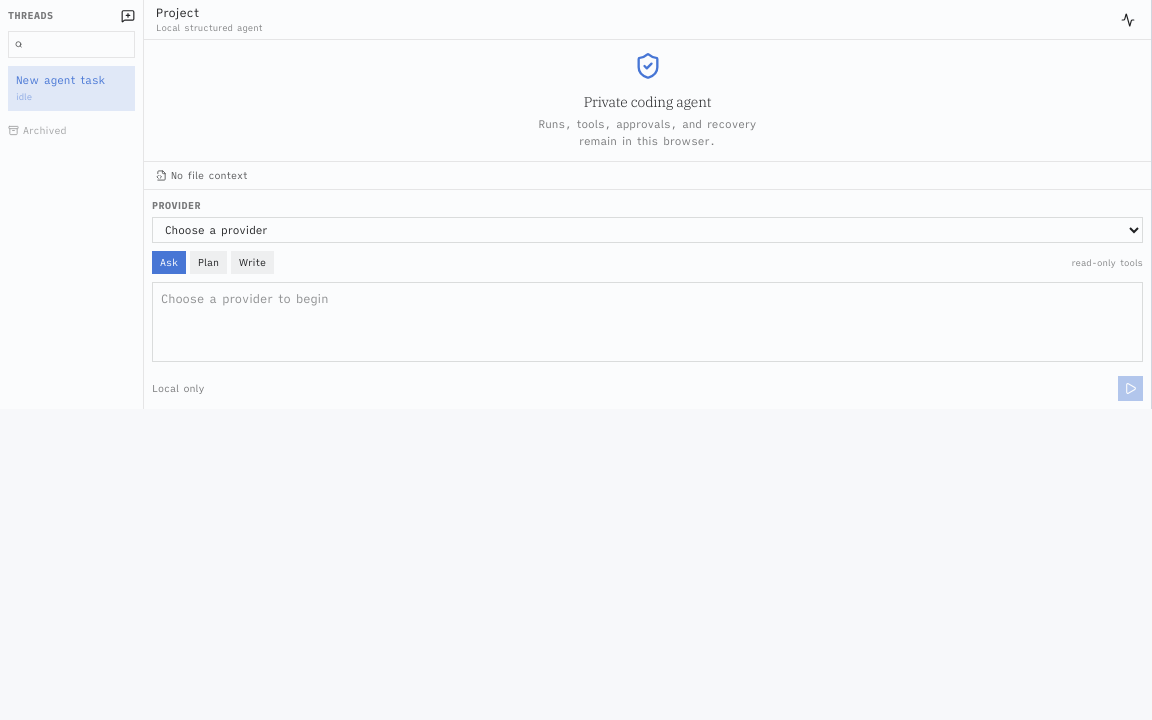
AgentWorkspace › asks for a session credential before a BYOK provider can run
Select "OpenRouter" in the dropdown named "Model provider": point(648, 230) x1=152 y1=217 x2=1143 y2=243
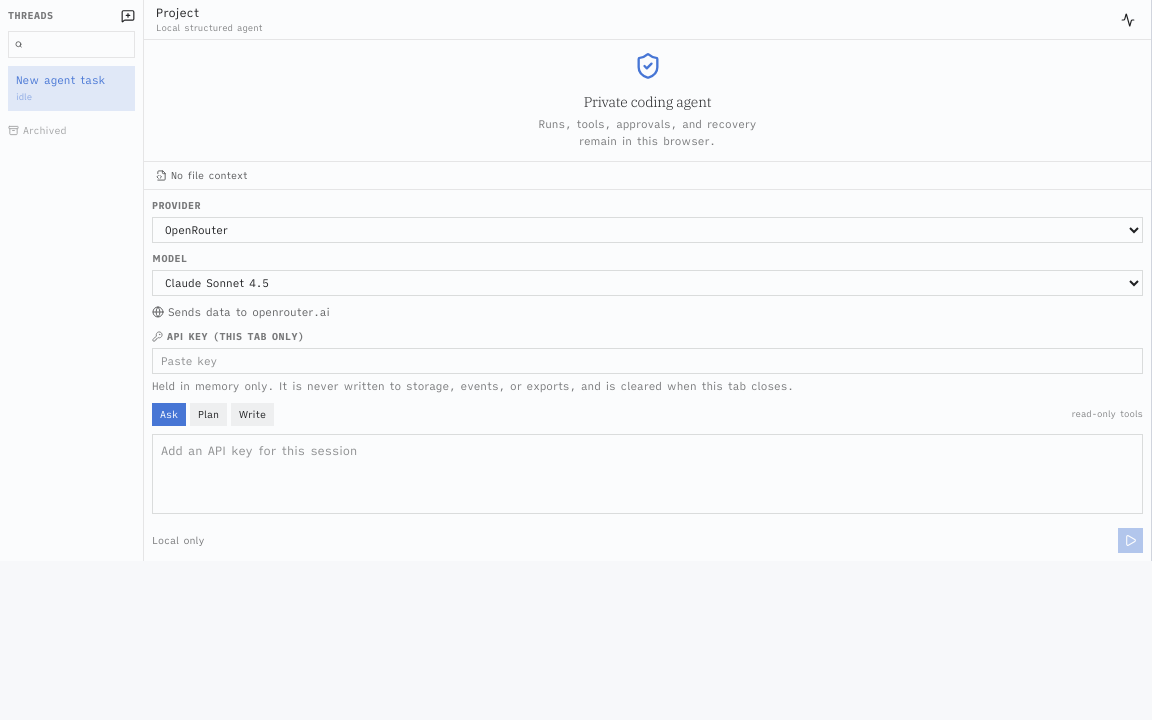
Expected: the text box with placeholder "Add an API key for this session" is disabled, x1=152 y1=434 x2=1143 y2=514
Now the text "Sends data to openrouter.ai" is shown, box x1=168 y1=304 x2=330 y2=320
In the password field labelled "API key": point(648, 361) x1=152 y1=348 x2=1143 y2=374, type "sk-test-value"
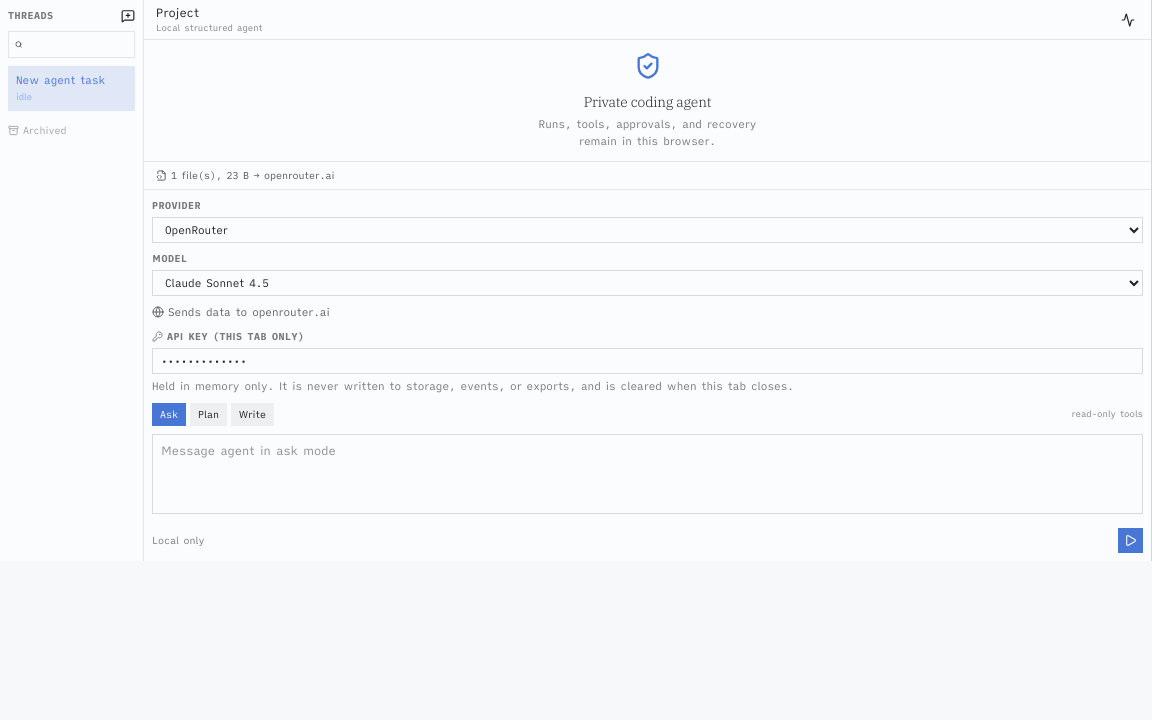
Now the button titled "Run agent" is enabled, box x1=1118 y1=528 x2=1143 y2=552
